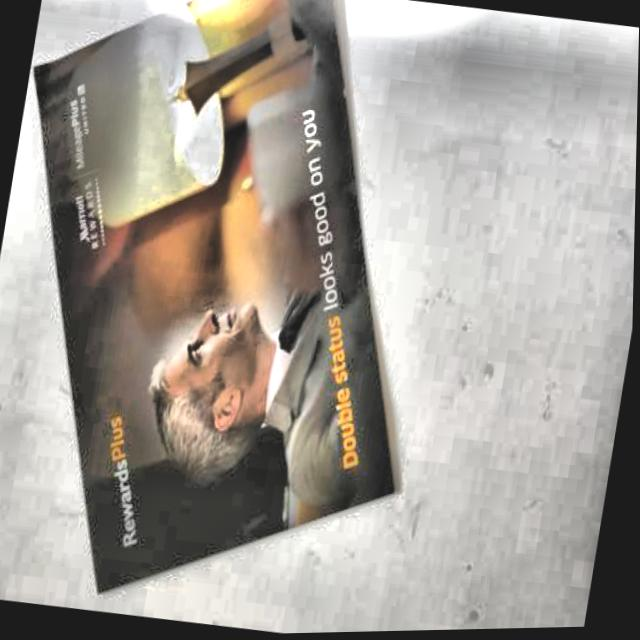Paper: (0, 0, 487, 640)
